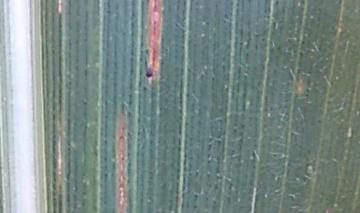tarspot: (142, 60, 156, 81)
